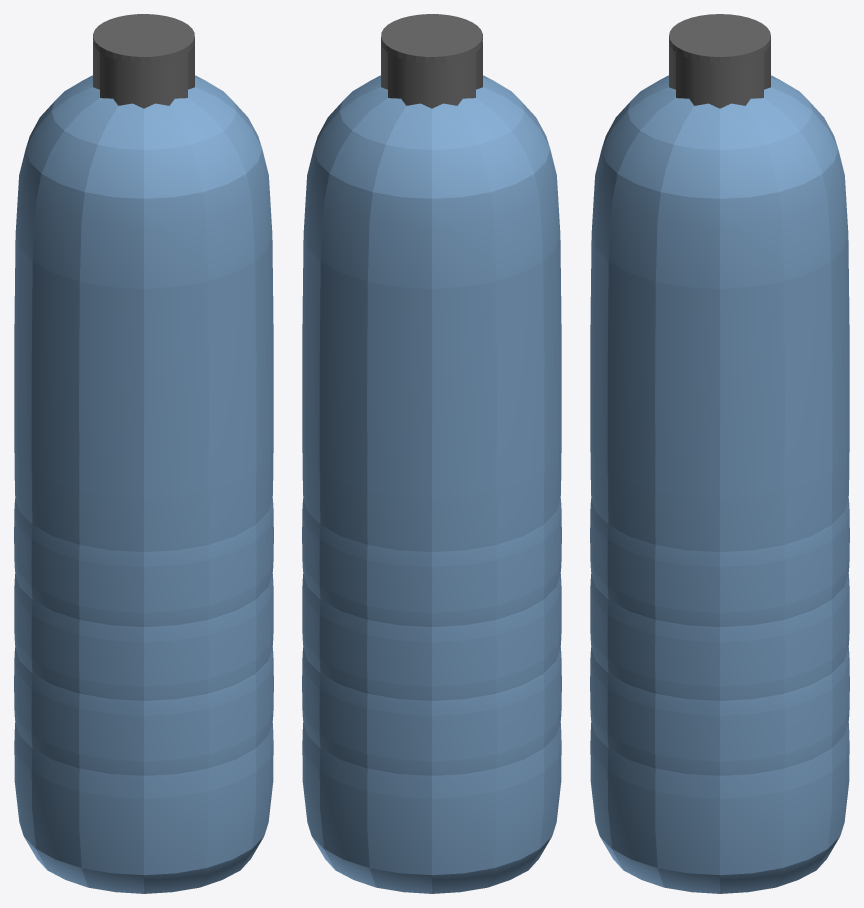
Rendered from WaterBottleBig.fbx.
3 views of the same model, side by side, from view 1: azimuth 30°, elevation 25°; view 2: azimuth 150°, elevation 25°; view 3: azimuth 270°, elevation 25° (orthographic).
Visible parts, largest first — view 1: WaterBottleBig; view 2: WaterBottleBig; view 3: WaterBottleBig.
Boxes of the visible parts, x1=… form: WaterBottleBig: x1=14, y1=14, x2=273, y2=893; WaterBottleBig: x1=302, y1=14, x2=561, y2=893; WaterBottleBig: x1=590, y1=14, x2=849, y2=893.
Size of the model in its own units: 52.62 by 184 by 52.62.
